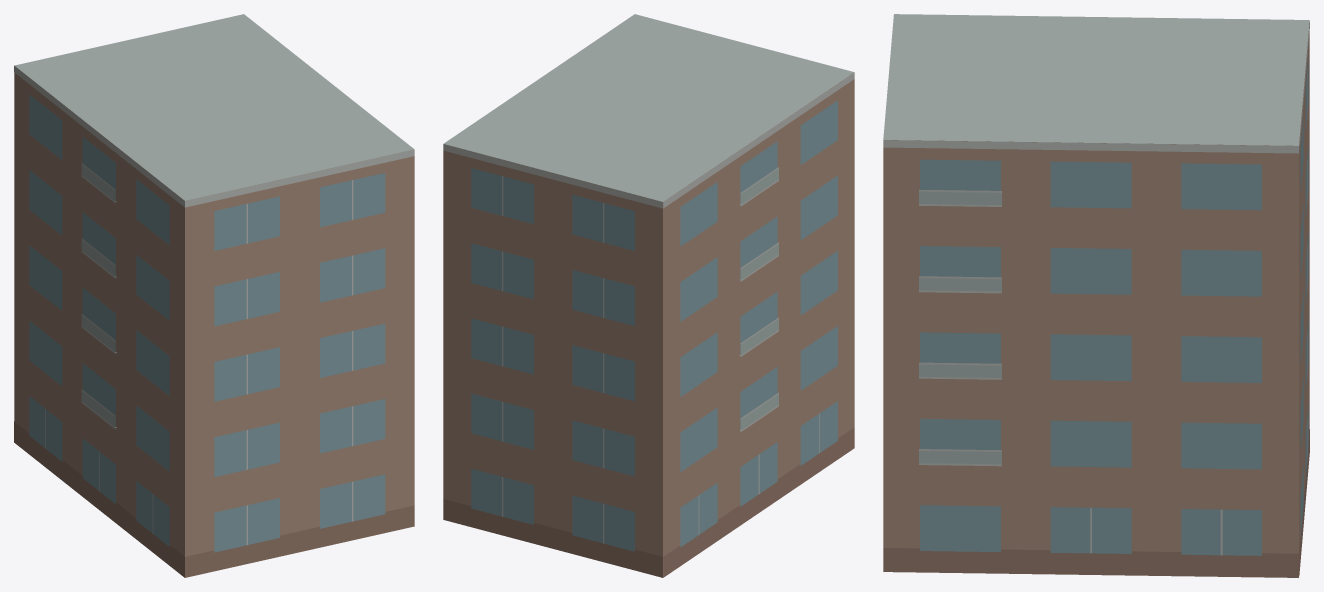
File: survey-upis-32841483.glb
The picture shows the model from 3 angles, left to right: view 1: azimuth 30°, elevation 25°; view 2: azimuth 150°, elevation 25°; view 3: azimuth 270°, elevation 25°; orthographic projection. The views are drawn at different scales.
Visible parts, largest first — view 1: survey-upis-32841483.tmp; view 2: survey-upis-32841483.tmp; view 3: survey-upis-32841483.tmp.
Boxes of the visible parts, x1,y1,x2,y2 form: survey-upis-32841483.tmp: (14,14,414,577); survey-upis-32841483.tmp: (443,14,854,577); survey-upis-32841483.tmp: (883,14,1309,577).
Bounding box in the file's own units: 9.04 × 13.8 × 12.36.
